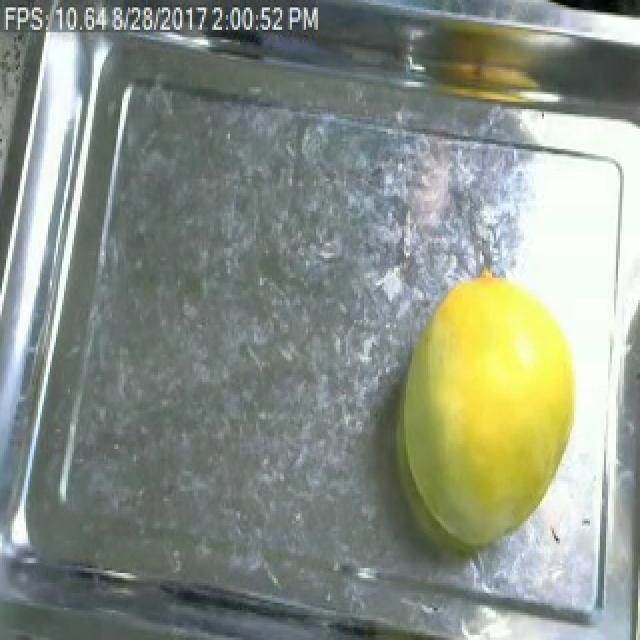fruit: (374, 245, 600, 570)
